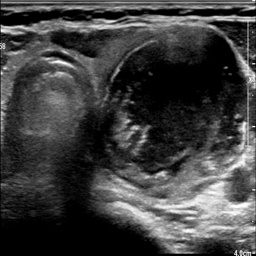mass: (108, 28, 244, 188)
